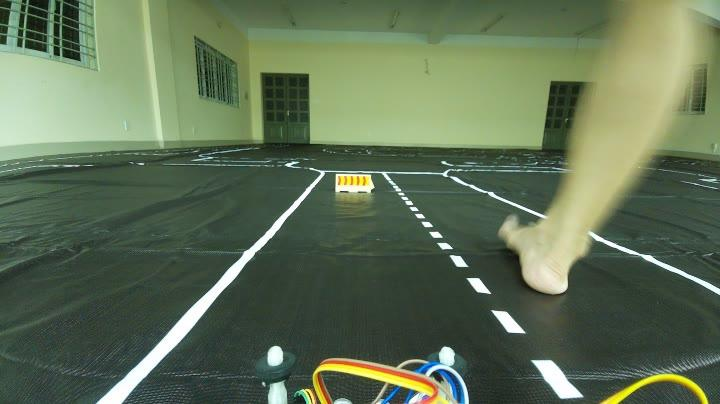roadblock: (332, 168, 378, 199)
